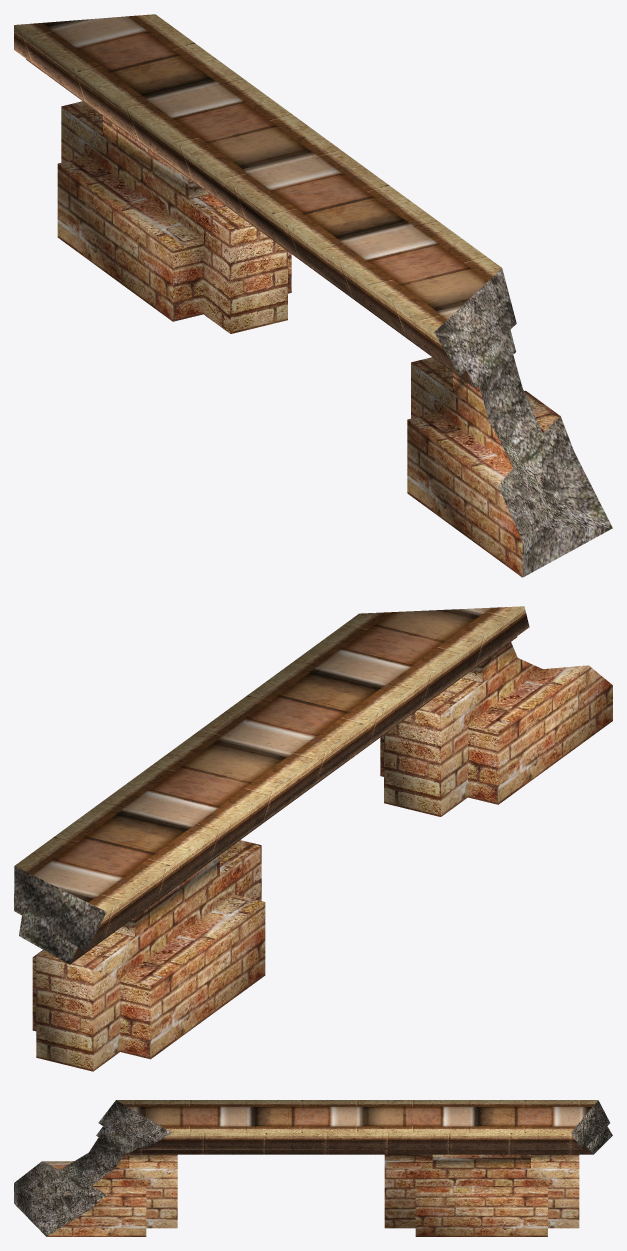
The model's file is OBJBridgeBrokenRailing.gltf.
3 renders of one model, top to bottom at view 1: azimuth 30°, elevation 25°; view 2: azimuth 150°, elevation 25°; view 3: azimuth 270°, elevation 25°, orthographic. The views are drawn at different scales.
Visible parts, largest first — view 1: BridgeBrokenRailing; view 2: BridgeBrokenRailing; view 3: BridgeBrokenRailing.
Part boxes in pixels (bbox=[...]): BridgeBrokenRailing: bbox=[14, 14, 612, 577]; BridgeBrokenRailing: bbox=[14, 606, 612, 1071]; BridgeBrokenRailing: bbox=[14, 1100, 612, 1236].
Bounding box in the file's own units: 0.6386 × 0.9277 × 4.86.
Materials: 3 (3 with a texture image).
